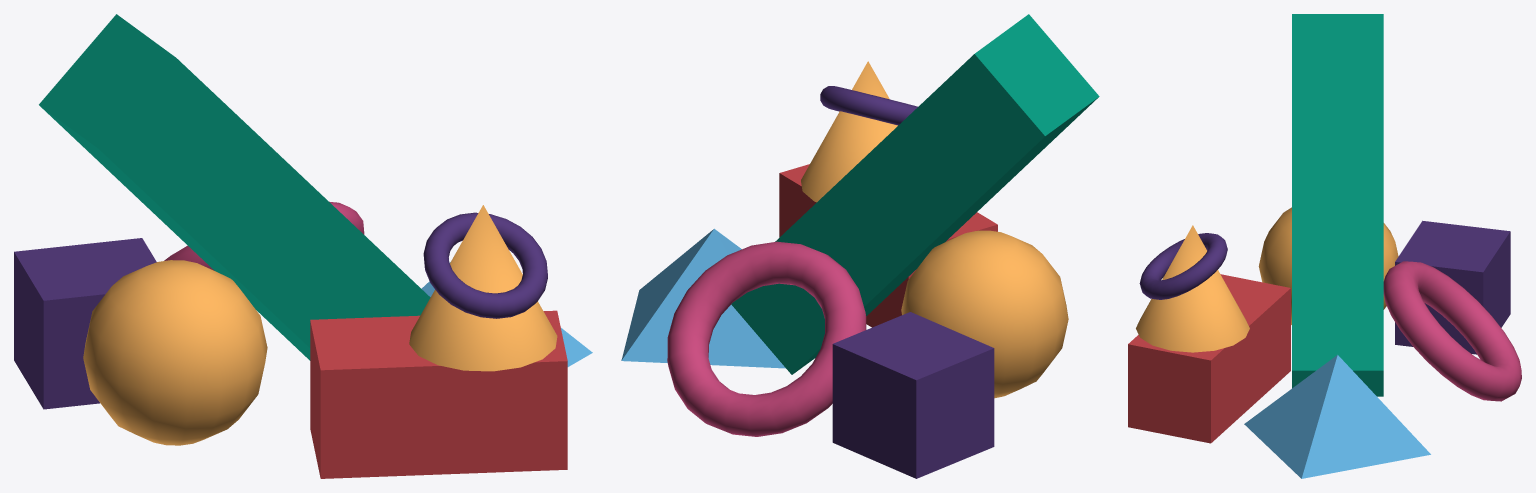
Rendered from pile_small_1.glb.
3 renders of one model, left to right at view 1: azimuth 30°, elevation 25°; view 2: azimuth 150°, elevation 25°; view 3: azimuth 270°, elevation 25°, orthographic. The views are drawn at different scales.
Parts seen in each view (by area): view 1: pile_small_1; view 2: pile_small_1; view 3: pile_small_1.
Part boxes in pixels (x1=…): pile_small_1: x1=14, y1=14, x2=592, y2=478; pile_small_1: x1=621, y1=14, x2=1099, y2=478; pile_small_1: x1=1128, y1=14, x2=1521, y2=478.
Size of the model in its own units: 6.22 by 4.79 by 5.55.
